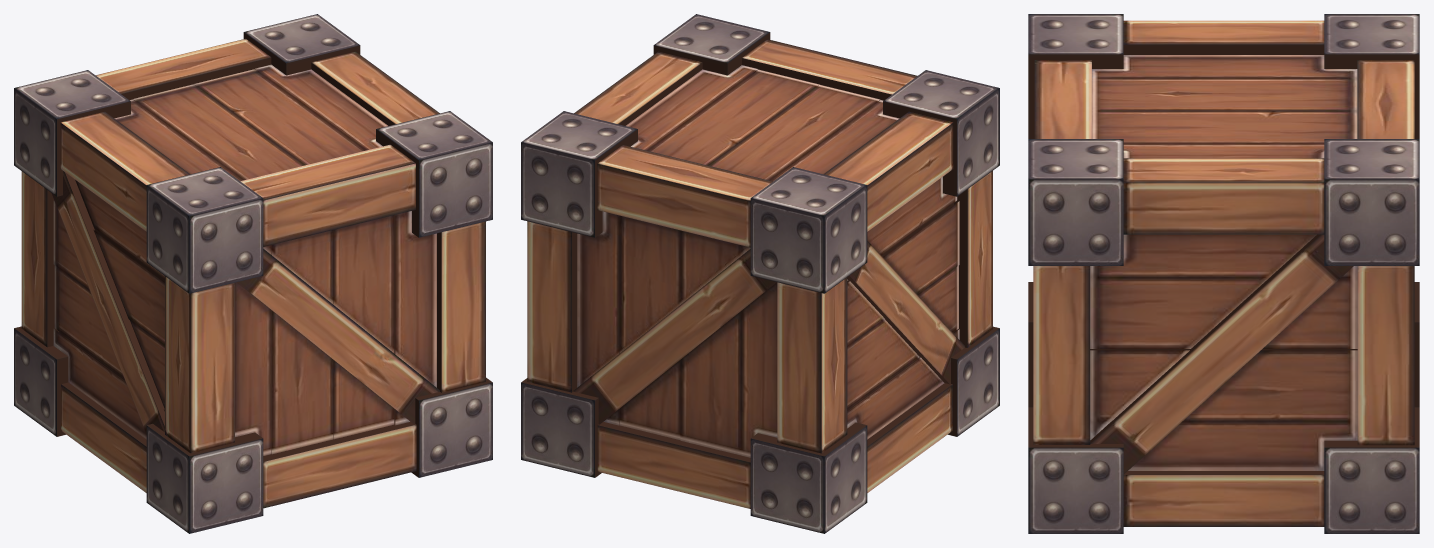
File: crate_stage3.glb
3 renders of one model, left to right at view 1: azimuth 30°, elevation 25°; view 2: azimuth 150°, elevation 25°; view 3: azimuth 270°, elevation 25°, orthographic. The views are drawn at different scales.
Parts seen in each view (by area): view 1: crate_blockout; view 2: crate_blockout; view 3: crate_blockout.
Part boxes in pixels (left/top/right/bottom): crate_blockout: left=14, top=14, right=492, bottom=533; crate_blockout: left=521, top=14, right=999, bottom=533; crate_blockout: left=1028, top=14, right=1419, bottom=533.
Bounding box in the file's own units: 0.82 × 0.82 × 0.82.
Materials: 1 (1 with a texture image).
